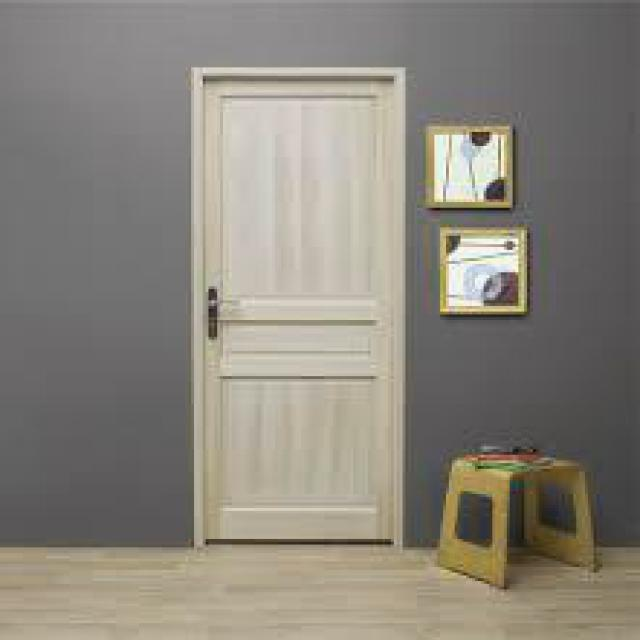door: (160, 27, 427, 577)
